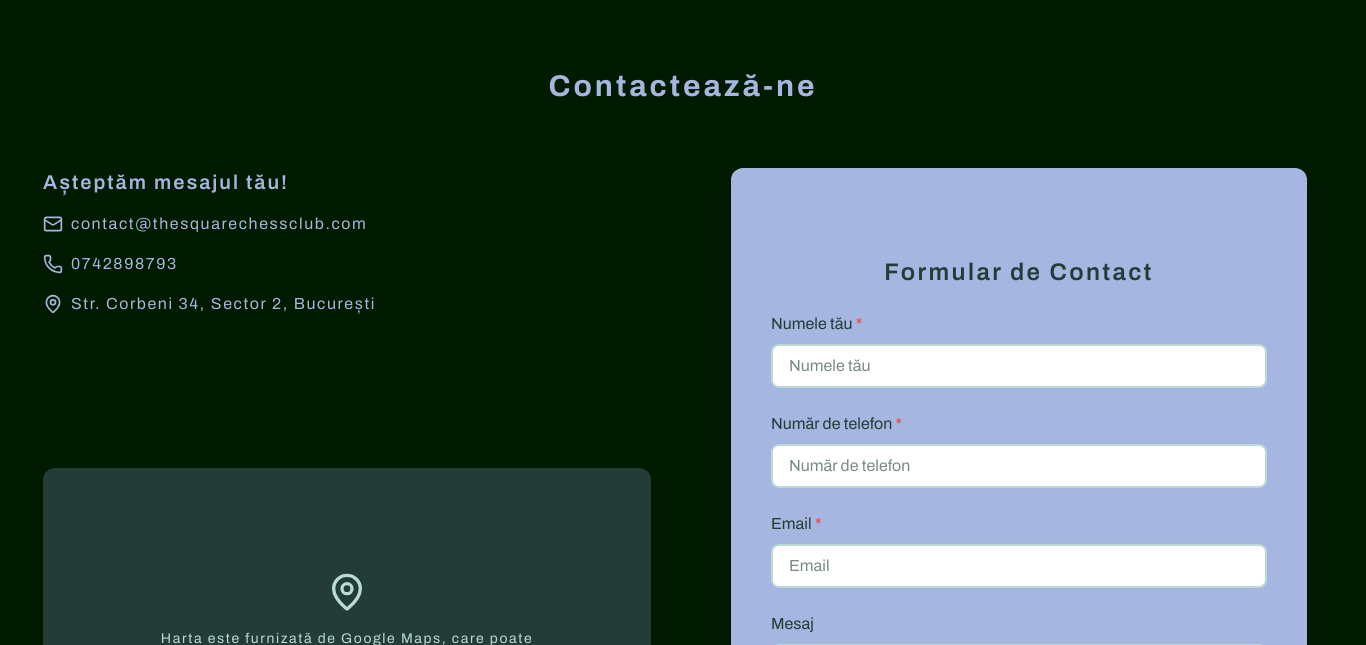
it: Contact Form - Manual Testing Scenarios › should enable submit button when consent is checked
Fill in all fields
Type "Ion Popescu" into the field labelled "Numele tău *" at (1019, 366), box [771,344,1267,388]
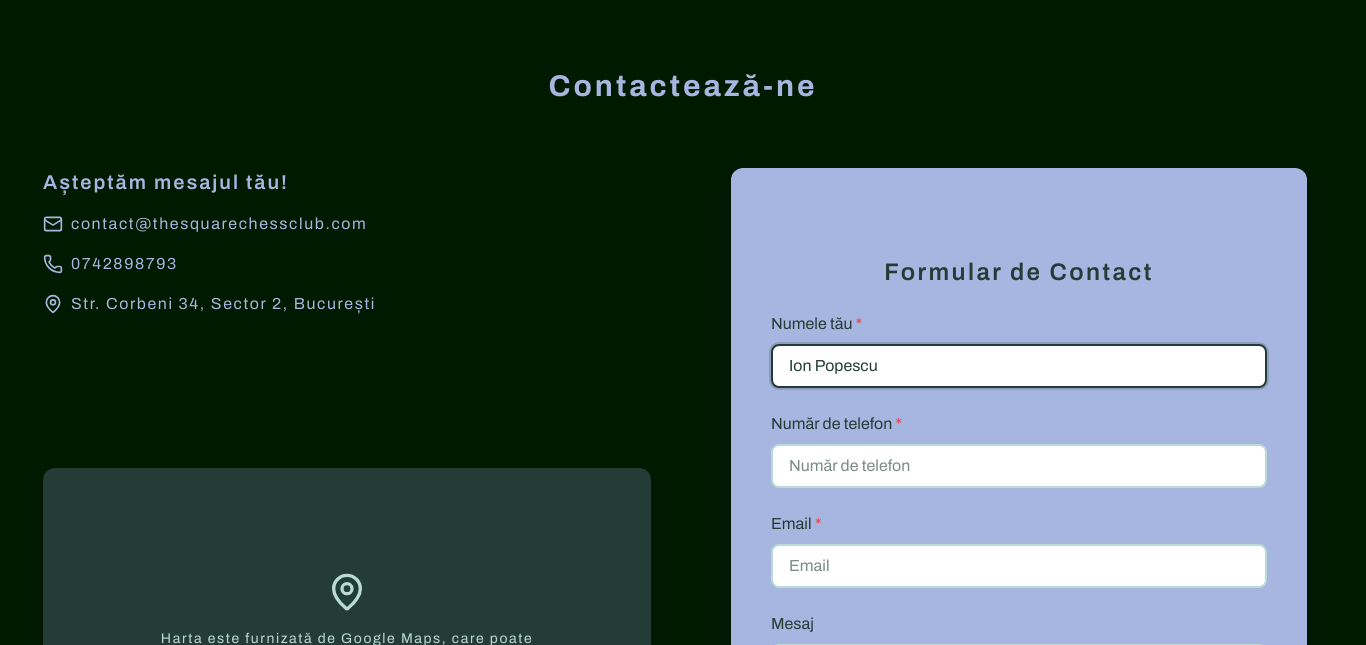
Type "0741234567" into the field labelled "Număr de telefon *" at (1019, 466), box [771,444,1267,488]
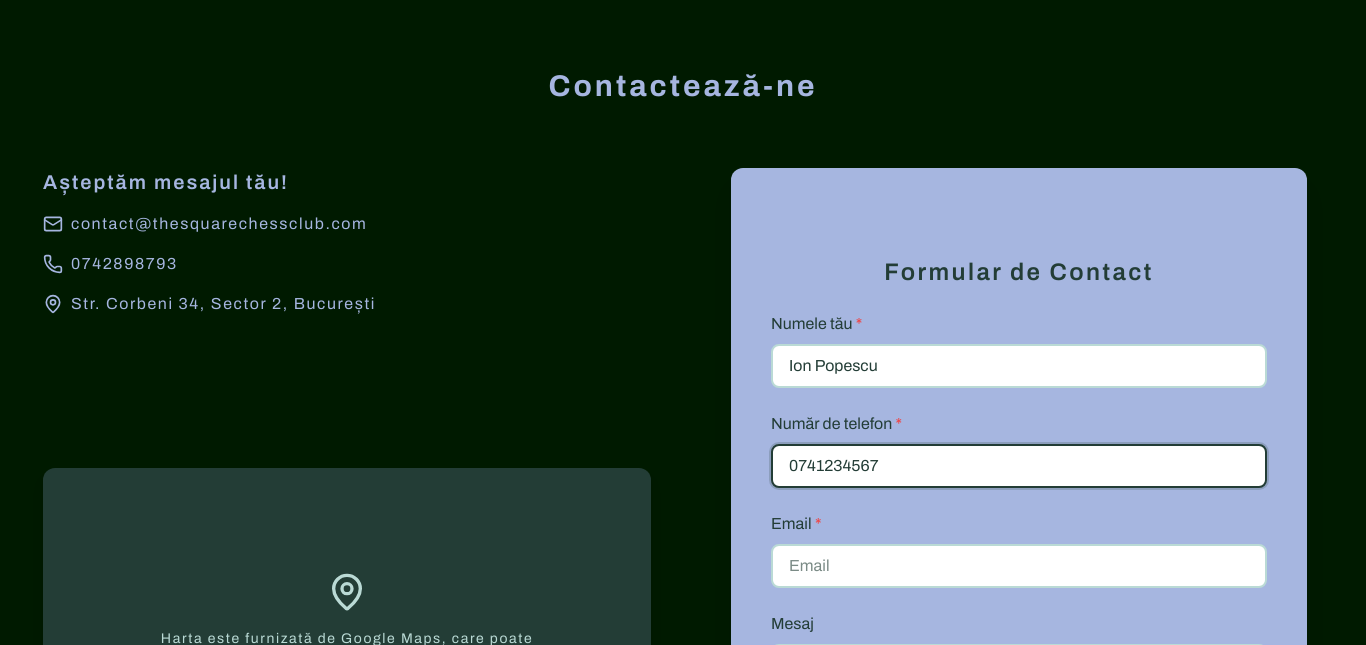
Type "ion@example.com" into the field labelled "Email *" at (1019, 566), box [771,544,1267,588]
(page scrolled)
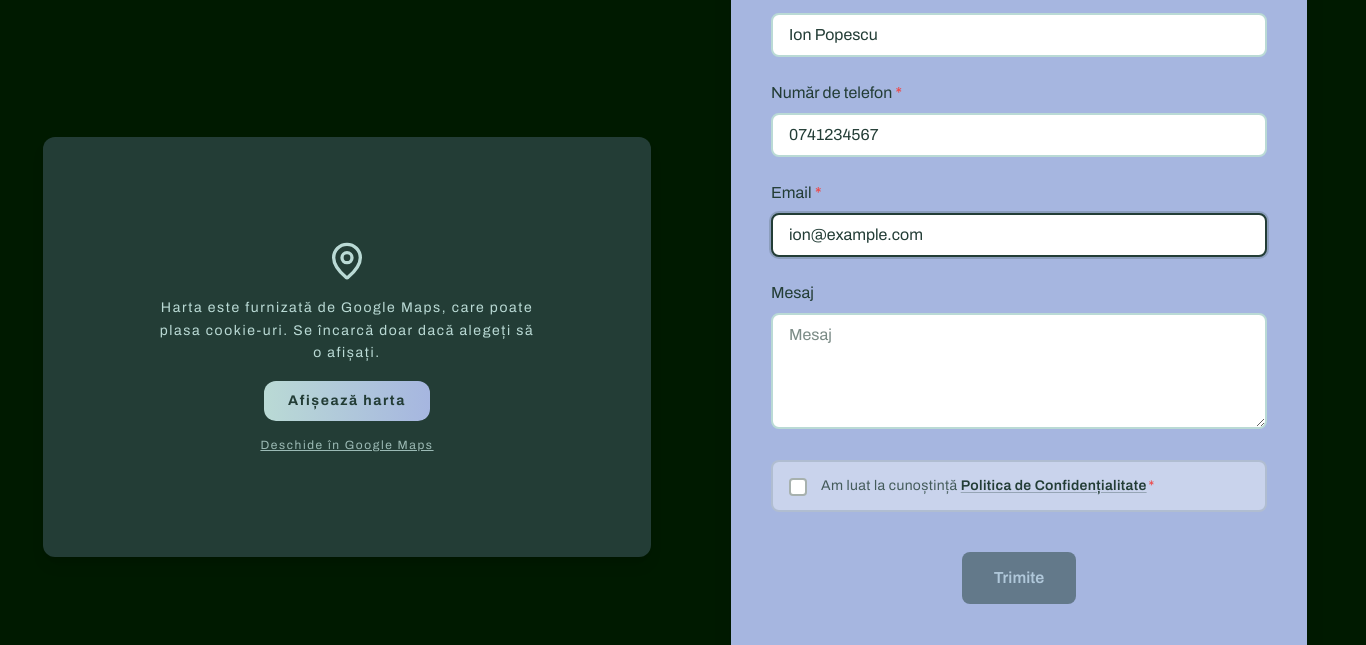
Type "Test message" into the text box labelled "Mesaj" at (1019, 371), box [771,313,1267,429]
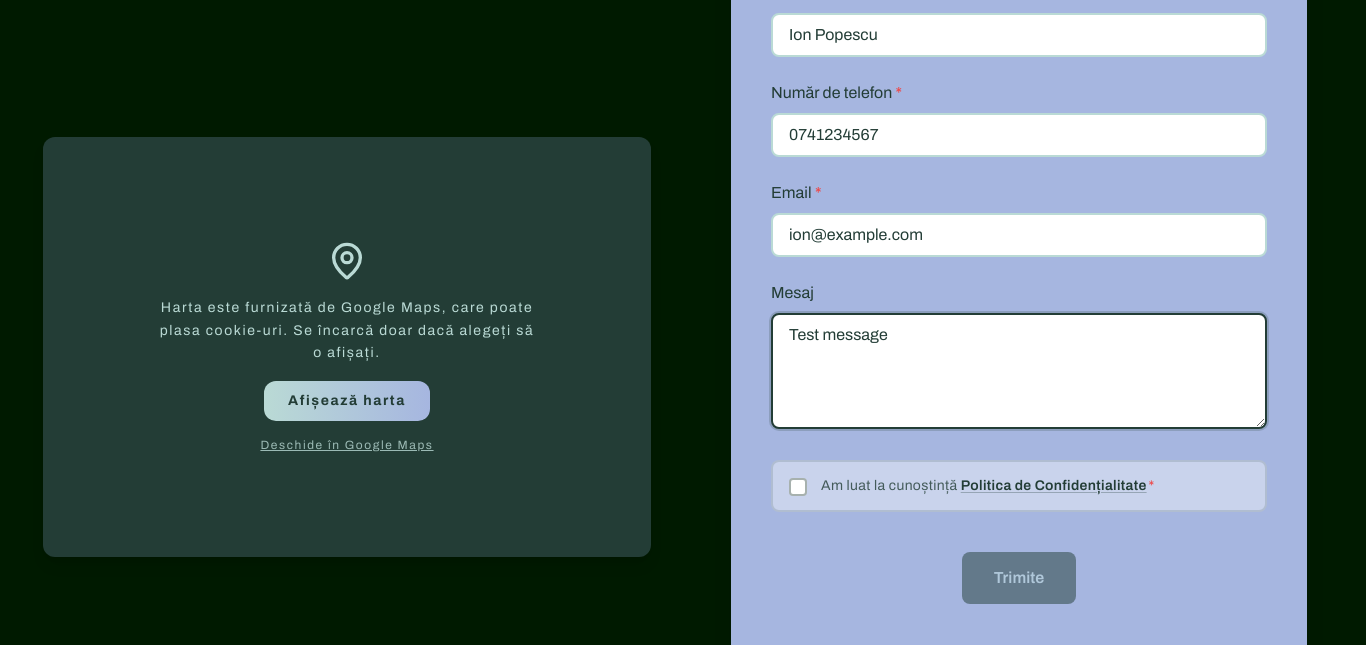
Check consent
Click the checkbox labelled "Am luat la cunoștință Politica de Confidențialitate *" at (1019, 486), box [771,460,1267,512]
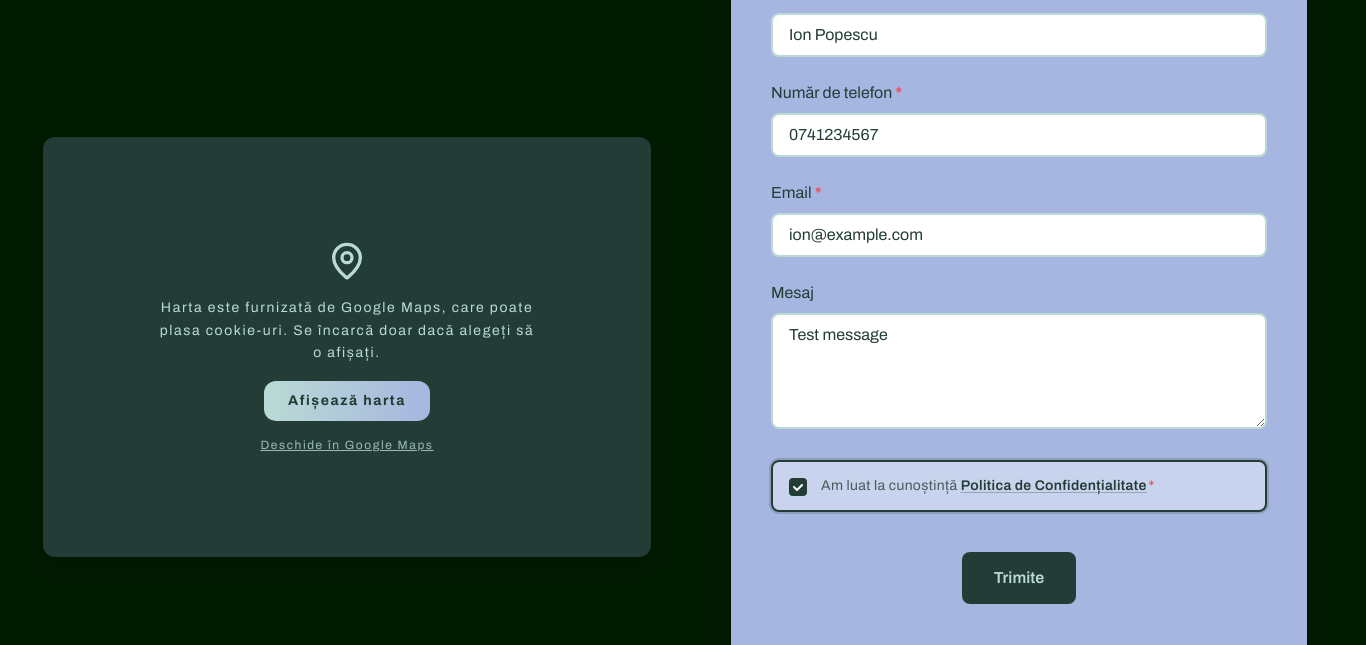
Now the button "Trimite" is enabled, box [962,552,1076,604]
